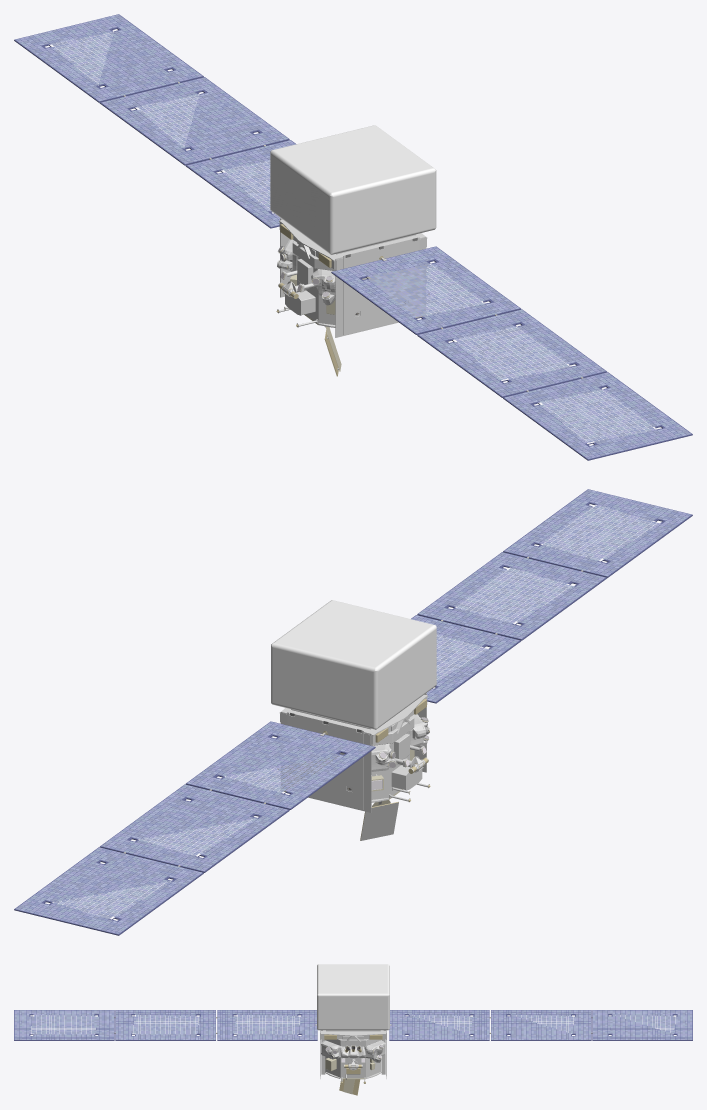
The model's file is fermi.glb.
3 renders of one model, top to bottom at view 1: azimuth 30°, elevation 25°; view 2: azimuth 150°, elevation 25°; view 3: azimuth 270°, elevation 25°, orthographic. The views are drawn at different scales.
Visible parts, largest first — view 1: Layer_1, Layer_2, Layer_0; view 2: Layer_1, Layer_2, Layer_0; view 3: Layer_1, Layer_2, Layer_0.
Boxes of the visible parts, x1=… form: Layer_1: x1=14, y1=14, x2=692, y2=460; Layer_2: x1=270, y1=125, x2=436, y2=254; Layer_0: x1=276, y1=218, x2=429, y2=376; Layer_1: x1=14, y1=489, x2=692, y2=935; Layer_2: x1=271, y1=600, x2=436, y2=729; Layer_0: x1=277, y1=693, x2=430, y2=840; Layer_1: x1=14, y1=1010, x2=692, y2=1040; Layer_2: x1=317, y1=964, x2=389, y2=1030; Layer_0: x1=315, y1=1024, x2=391, y2=1095.
Bounding box in the file's own units: 8.55 × 12.1 × 62.31.
